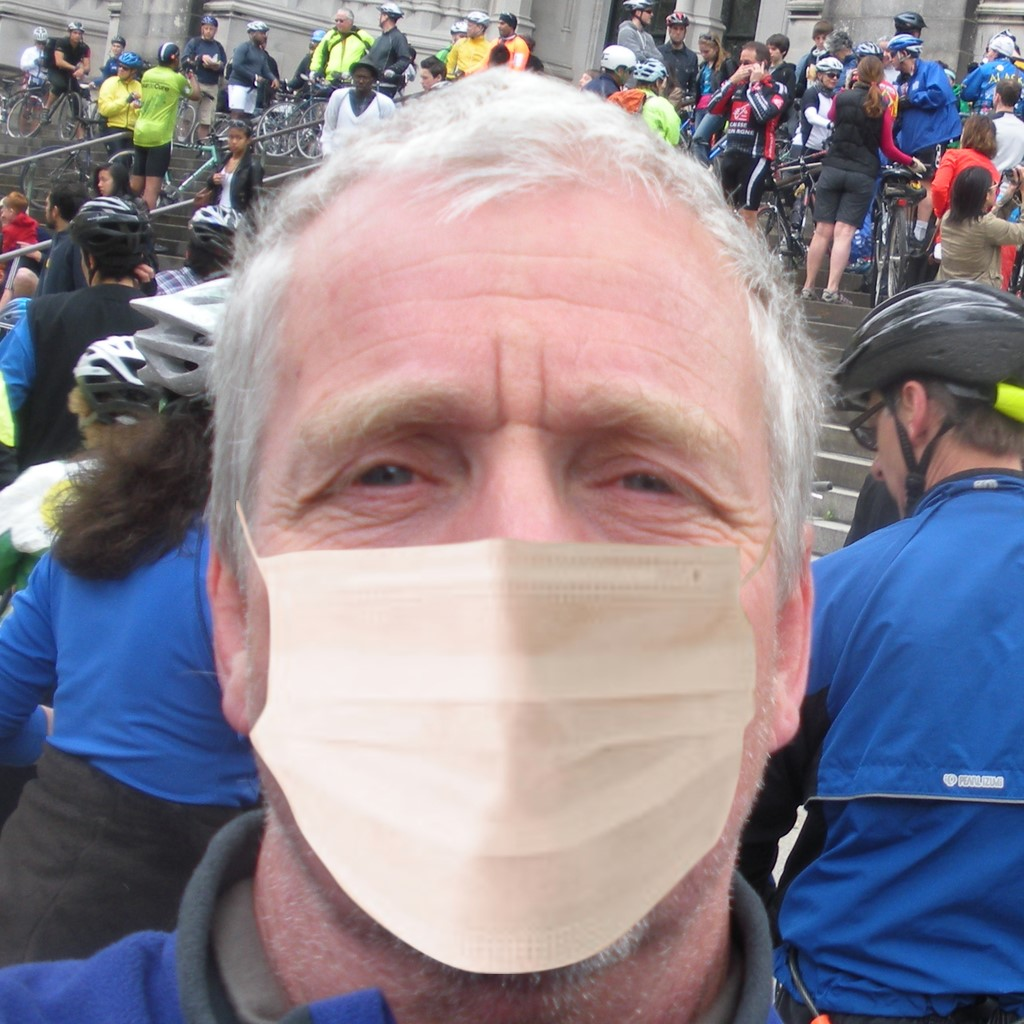con_mascara: (213, 131, 783, 949)
